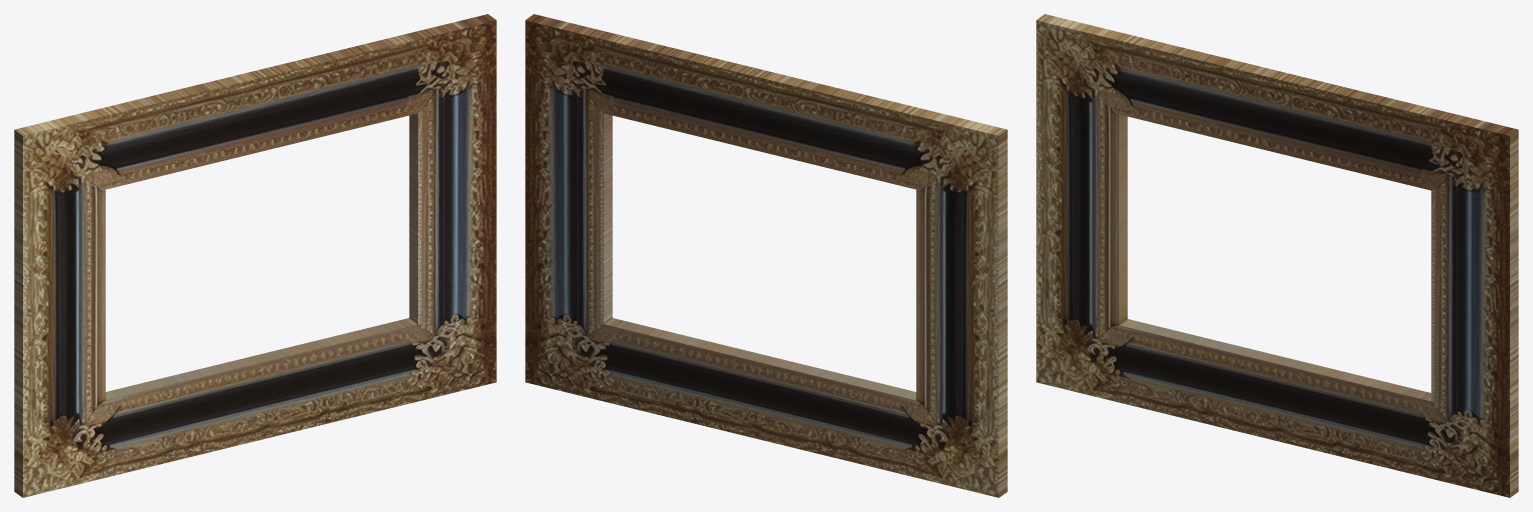
The model's file is frame.glb.
3 renders of one model, left to right at view 1: azimuth 30°, elevation 25°; view 2: azimuth 150°, elevation 25°; view 3: azimuth 330°, elevation 25°, orthographic.
Parts seen in each view (by area): view 1: Cube.001; view 2: Cube.001; view 3: Cube.001.
Boxes of the visible parts, x1,y1,x2,y2 form: Cube.001: (14, 14, 496, 497); Cube.001: (525, 14, 1007, 497); Cube.001: (1036, 14, 1518, 497).
Size of the model in its own units: 2.74 by 2 by 0.0869.
1 material, 1 textured.
